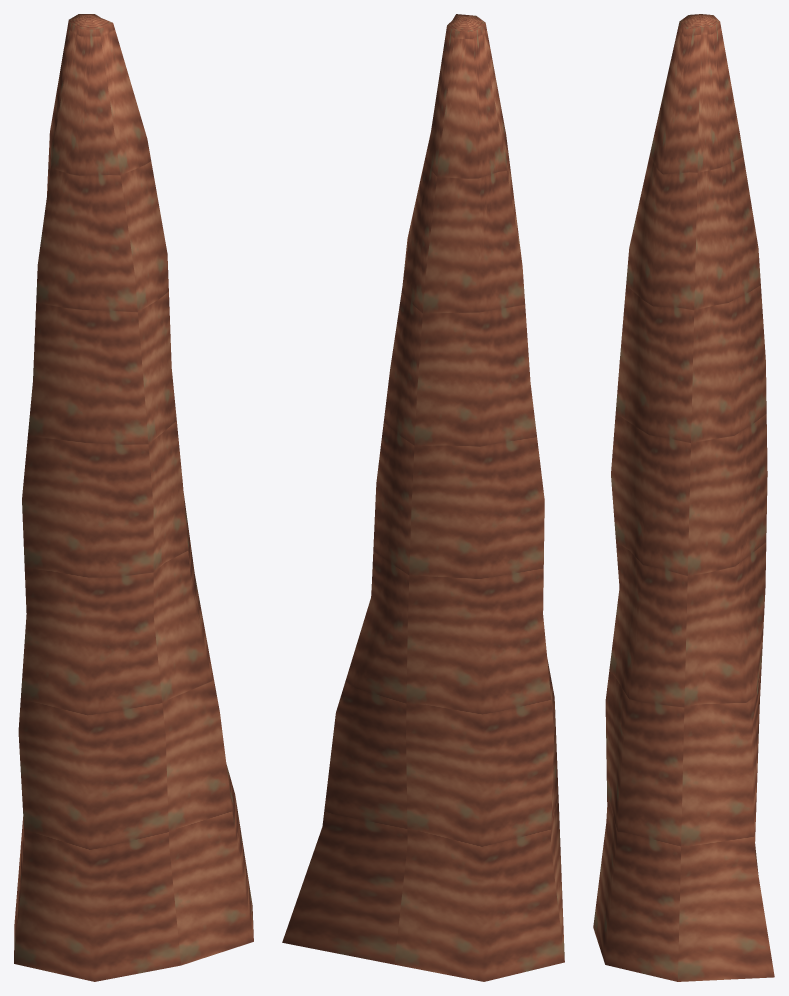
Rendered from Rock_Spire_2_LOD2.gltf.
3 views of the same model, side by side, from view 1: azimuth 30°, elevation 25°; view 2: azimuth 150°, elevation 25°; view 3: azimuth 270°, elevation 25° (orthographic). The views are drawn at different scales.
Visible parts, largest first — view 1: Rock_Spire_2_LOD2; view 2: Rock_Spire_2_LOD2; view 3: Rock_Spire_2_LOD2.
Boxes of the visible parts, x1,y1,x2,y2 form: Rock_Spire_2_LOD2: (14,14,253,981); Rock_Spire_2_LOD2: (282,14,564,981); Rock_Spire_2_LOD2: (593,14,774,981).
Size of the model in its own units: 11.6 by 42.61 by 7.85.
1 material, 1 textured.
